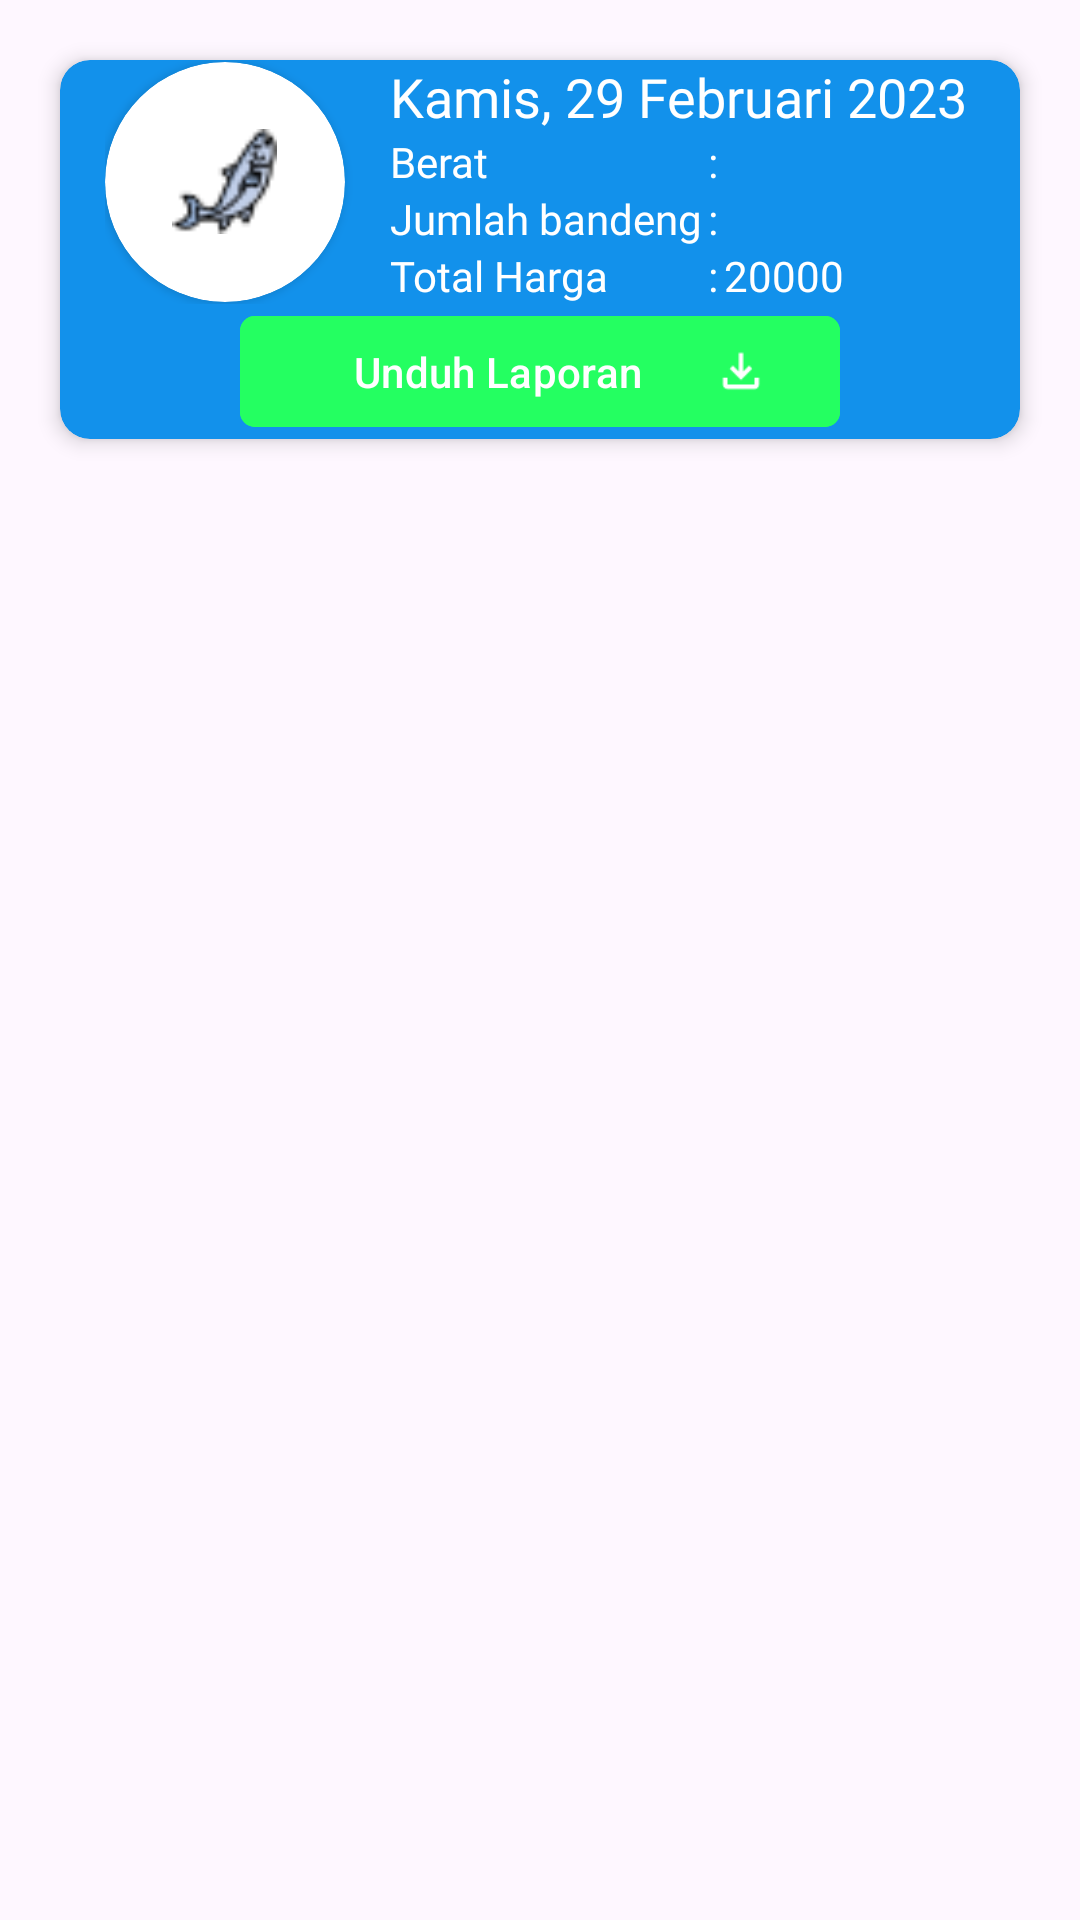

Locate icon controls on the screen. Image size 1080x1920, boxes as Rect(x1, y1, x2, y2).
ikan kecil: Rect(172, 129, 277, 234)
